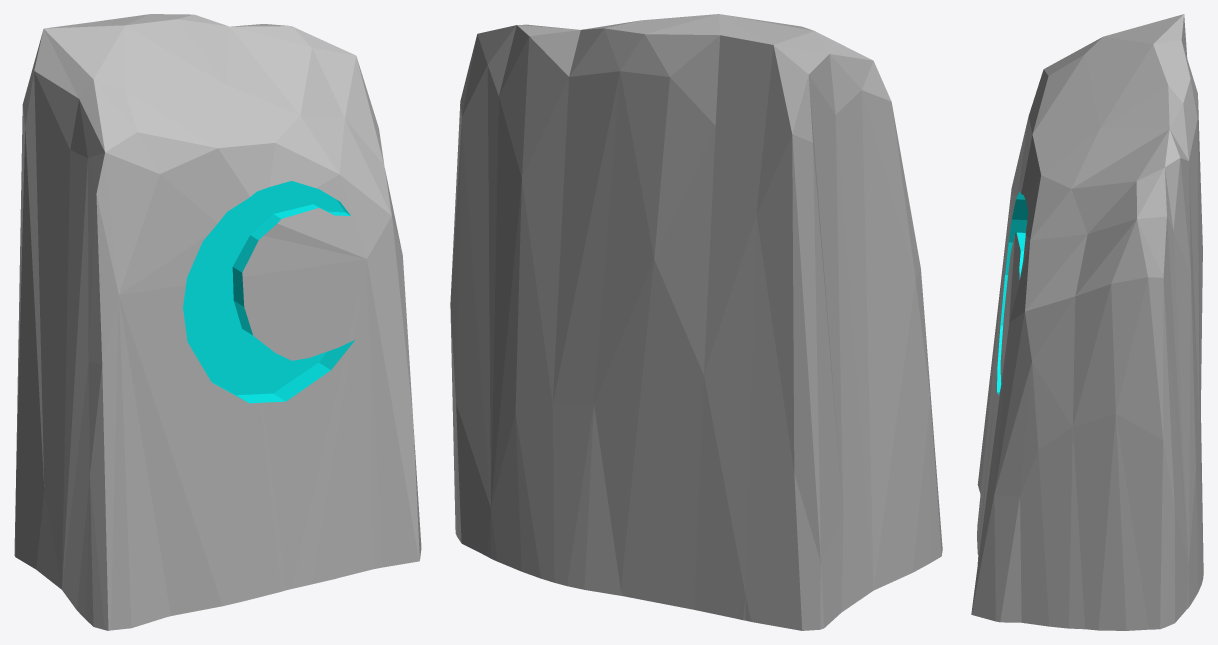
File: Rock_Prop_Tribal_Stone_Altar_Rune_01.FBX
The picture shows the model from 3 angles, left to right: view 1: azimuth 30°, elevation 25°; view 2: azimuth 150°, elevation 25°; view 3: azimuth 270°, elevation 25°; orthographic projection. The views are drawn at different scales.
Parts seen in each view (by area): view 1: Rock_Prop_Tribal_Stone_Altar_Rune_01; view 2: Rock_Prop_Tribal_Stone_Altar_Rune_01; view 3: Rock_Prop_Tribal_Stone_Altar_Rune_01.
Boxes of the visible parts, x1=… form: Rock_Prop_Tribal_Stone_Altar_Rune_01: x1=14, y1=14, x2=421, y2=630; Rock_Prop_Tribal_Stone_Altar_Rune_01: x1=450, y1=14, x2=942, y2=630; Rock_Prop_Tribal_Stone_Altar_Rune_01: x1=971, y1=14, x2=1203, y2=630.
Bounding box in the file's own units: 1495 × 2091 × 916.
